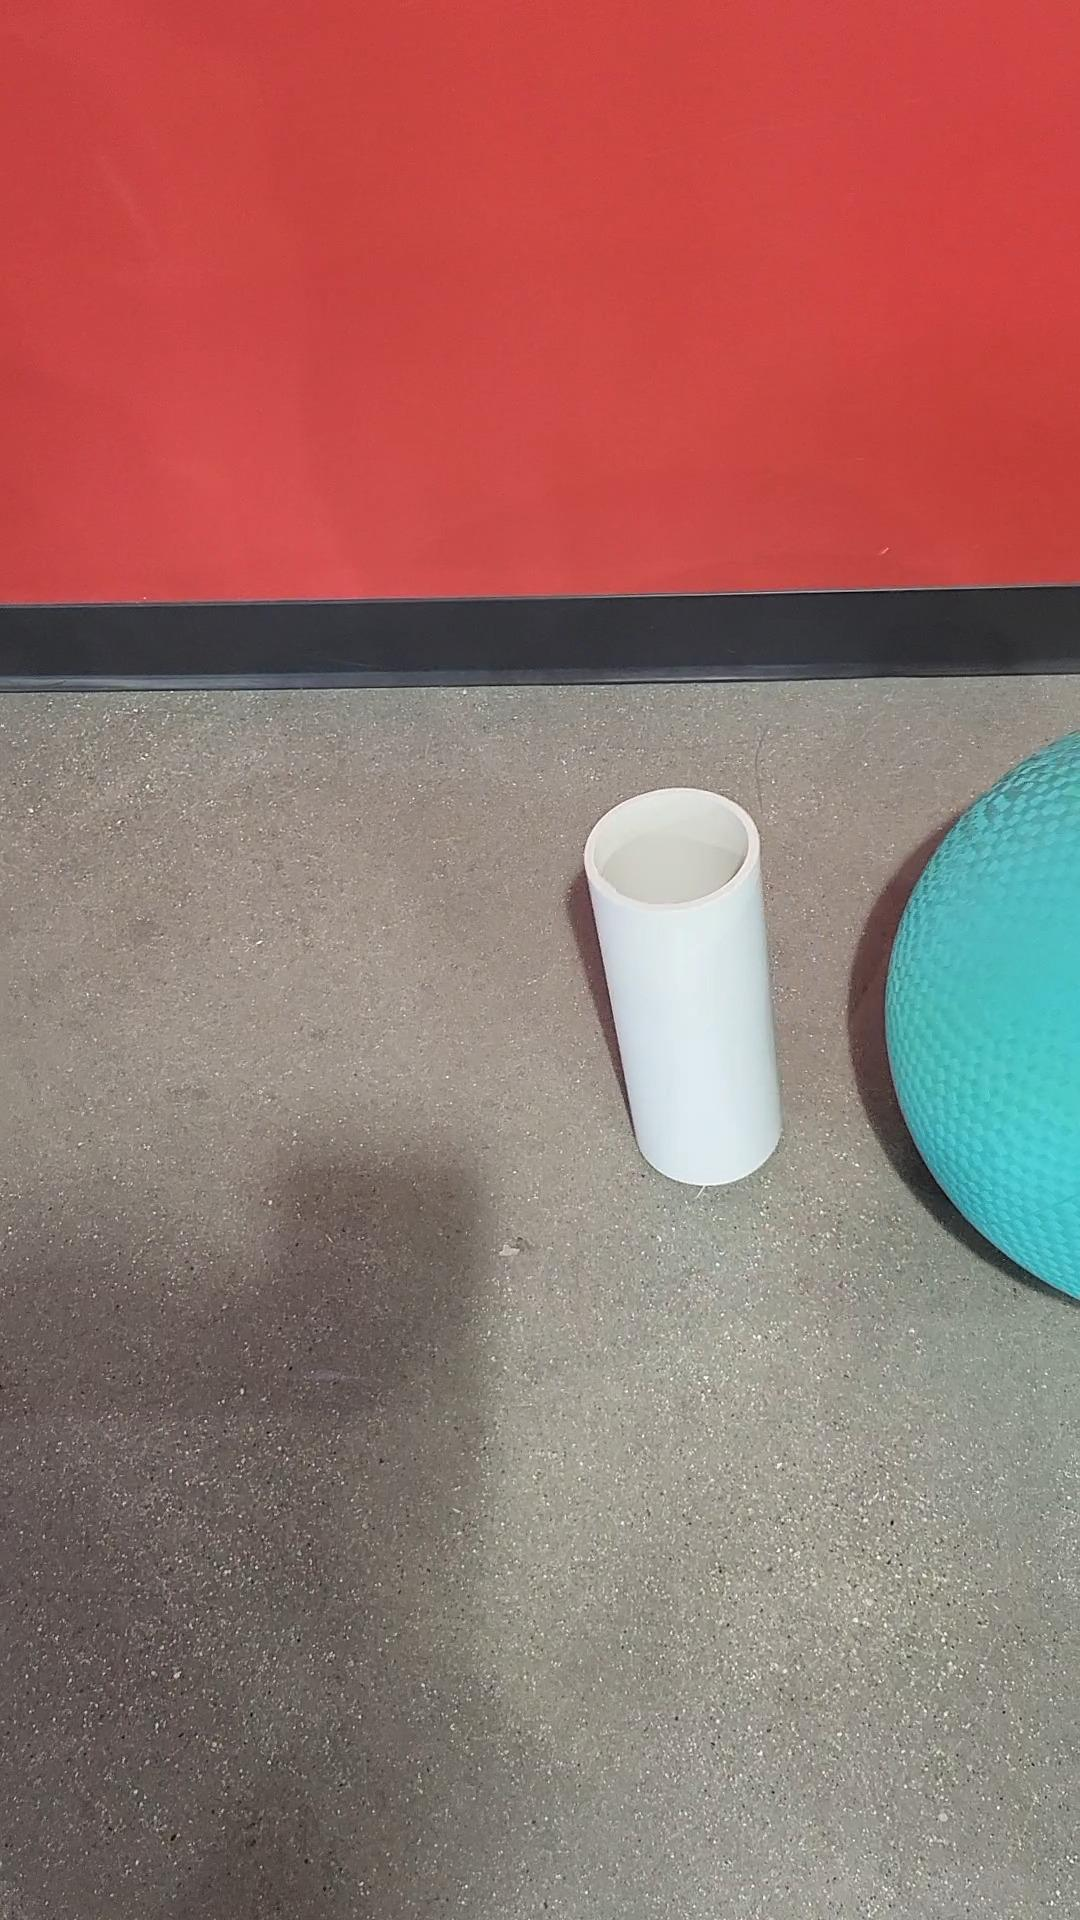algae: (866, 716, 1079, 1296)
coral: (574, 785, 803, 1188)
